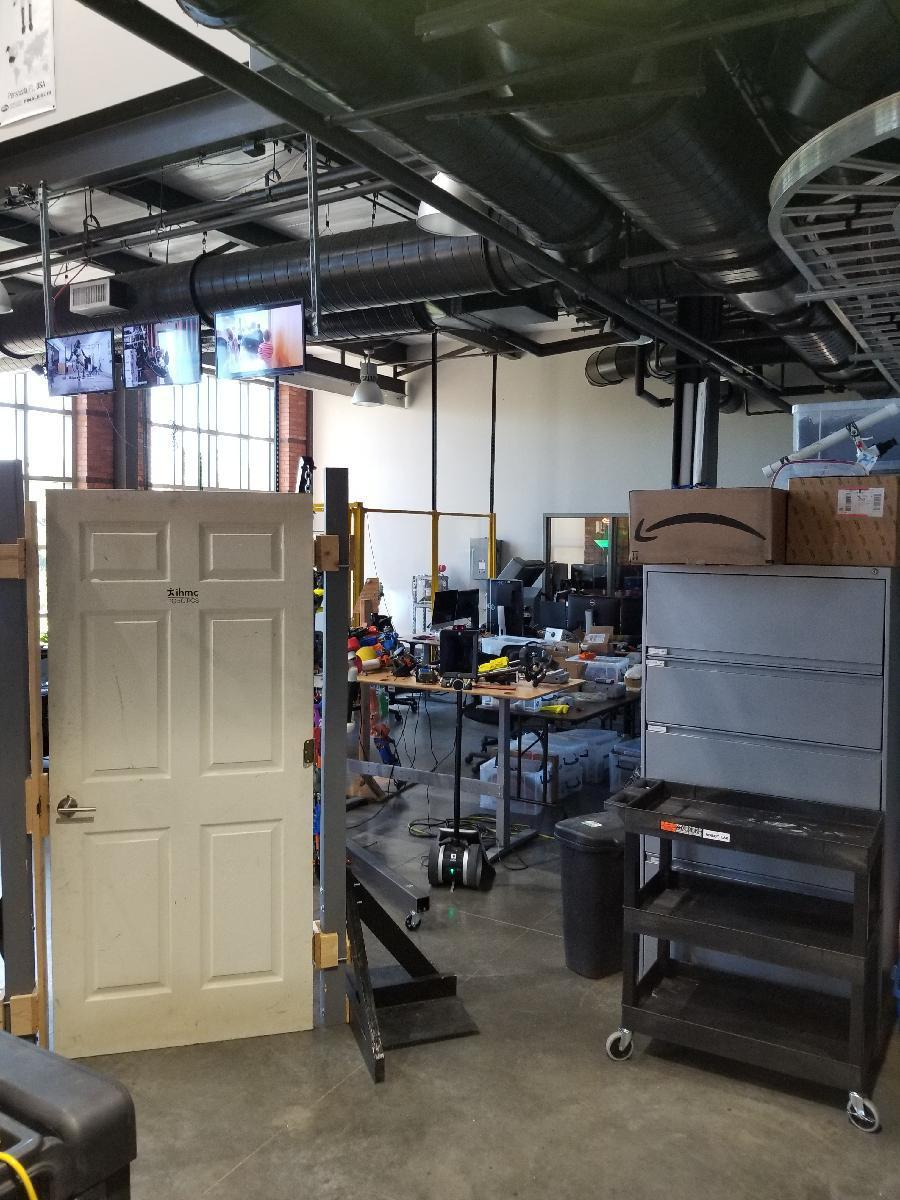door: (49, 491, 320, 1054)
handle: (54, 792, 101, 822)
